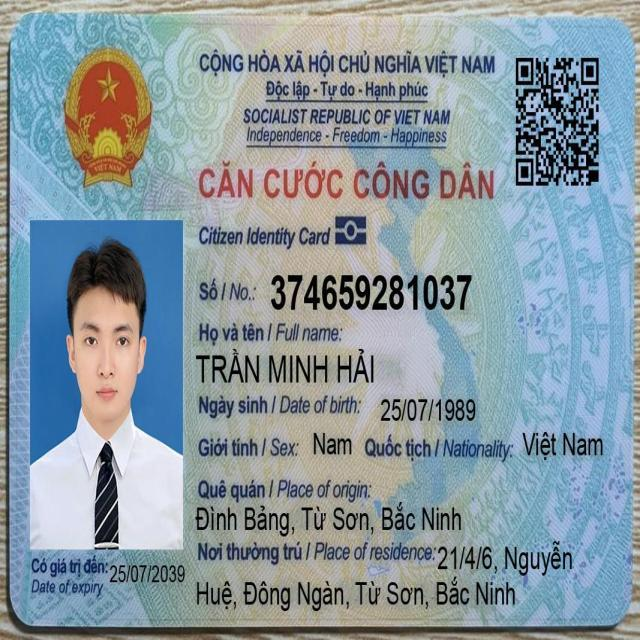current_place: (193, 572, 519, 616), (434, 537, 577, 579)
dob: (377, 393, 479, 428)
expire_date: (107, 557, 189, 590)
gender: (309, 425, 356, 465)
id: (266, 266, 477, 317)
name: (190, 343, 379, 390)
nationality: (520, 426, 608, 462)
origin_place: (192, 499, 465, 541)
qr: (513, 46, 604, 192)
